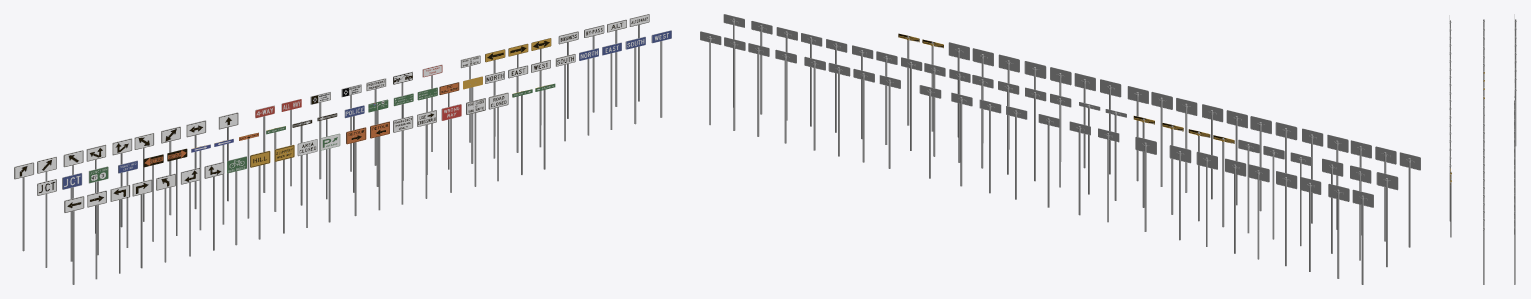
File: signs_6.fbx
3 views of the same model, side by side, from view 1: azimuth 30°, elevation 25°; view 2: azimuth 150°, elevation 25°; view 3: azimuth 270°, elevation 25° (orthographic). The views are drawn at different scales.
Parts seen in each view (by area): view 1: sign_247, sign_244, sign_250, sign_239, sign_227, sign_236, sign_248, sign_249, sign_240, sign_251, sign_243, sign_237 (+18 smaller); view 2: sign_236, sign_246, sign_231, sign_228, sign_227, sign_235, sign_249, sign_242, sign_245, sign_247, sign_234, sign_226 (+16 smaller); view 3: sign_235, sign_256, sign_200, sign_201, sign_254.
Part boxes in pixels (bbox=[...]): sign_247: bbox=[320, 133, 340, 222]; sign_244: bbox=[250, 150, 270, 239]; sign_250: bbox=[393, 115, 413, 204]; sign_239: bbox=[132, 179, 152, 268]; sign_227: bbox=[14, 162, 34, 251]; sign_236: bbox=[64, 196, 84, 284]; sign_248: bbox=[346, 127, 366, 216]; sign_249: bbox=[370, 121, 389, 210]; sign_240: bbox=[156, 173, 175, 262]; sign_251: bbox=[417, 110, 436, 198]; sign_243: bbox=[227, 156, 246, 245]; sign_237: bbox=[87, 190, 106, 279]; sign_236: bbox=[1399, 152, 1420, 247]; sign_246: bbox=[1151, 91, 1172, 186]; sign_231: bbox=[1248, 164, 1269, 259]; sign_228: bbox=[1328, 183, 1349, 278]; sign_227: bbox=[1352, 189, 1373, 284]; sign_235: bbox=[1135, 136, 1156, 231]; sign_249: bbox=[1074, 73, 1095, 168]; sign_242: bbox=[1250, 116, 1271, 211]; sign_245: bbox=[1176, 98, 1197, 192]; sign_247: bbox=[1127, 86, 1148, 181]; sign_234: bbox=[1169, 145, 1191, 240]; sign_226: bbox=[1376, 172, 1398, 267]; sign_235: bbox=[1514, 83, 1516, 145]; sign_256: bbox=[1450, 176, 1451, 237]; sign_200: bbox=[1514, 223, 1515, 284]; sign_201: bbox=[1483, 227, 1484, 284]; sign_254: bbox=[1449, 158, 1451, 221].
Bounding box in the file's own units: 15.94 × 2.08 × 2.11.
